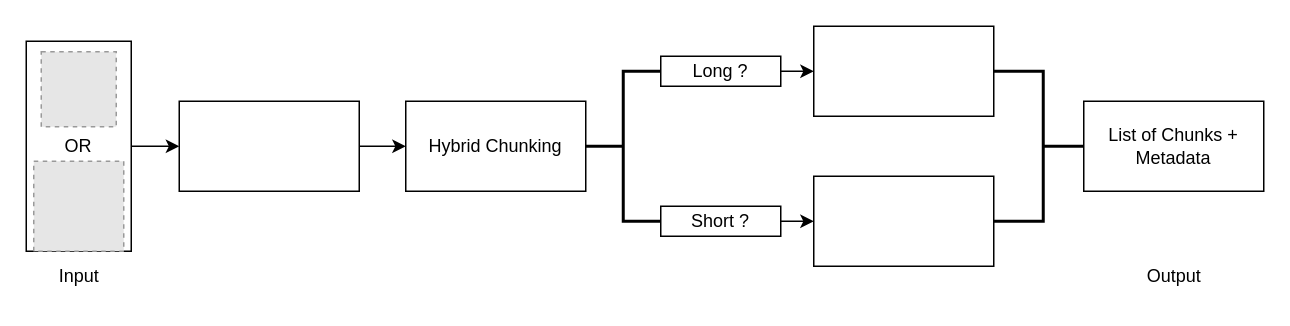
This 1290x326 diagram has some shape labels left out. Grey dashed boxes stand in for pictures. Each missing label, with the centre of its shape:
Doc loading and Paragraph Extraction: point (268, 145)
Merge to min word count: point (903, 220)
NLTK Sentence Tokenize: point (903, 70)
